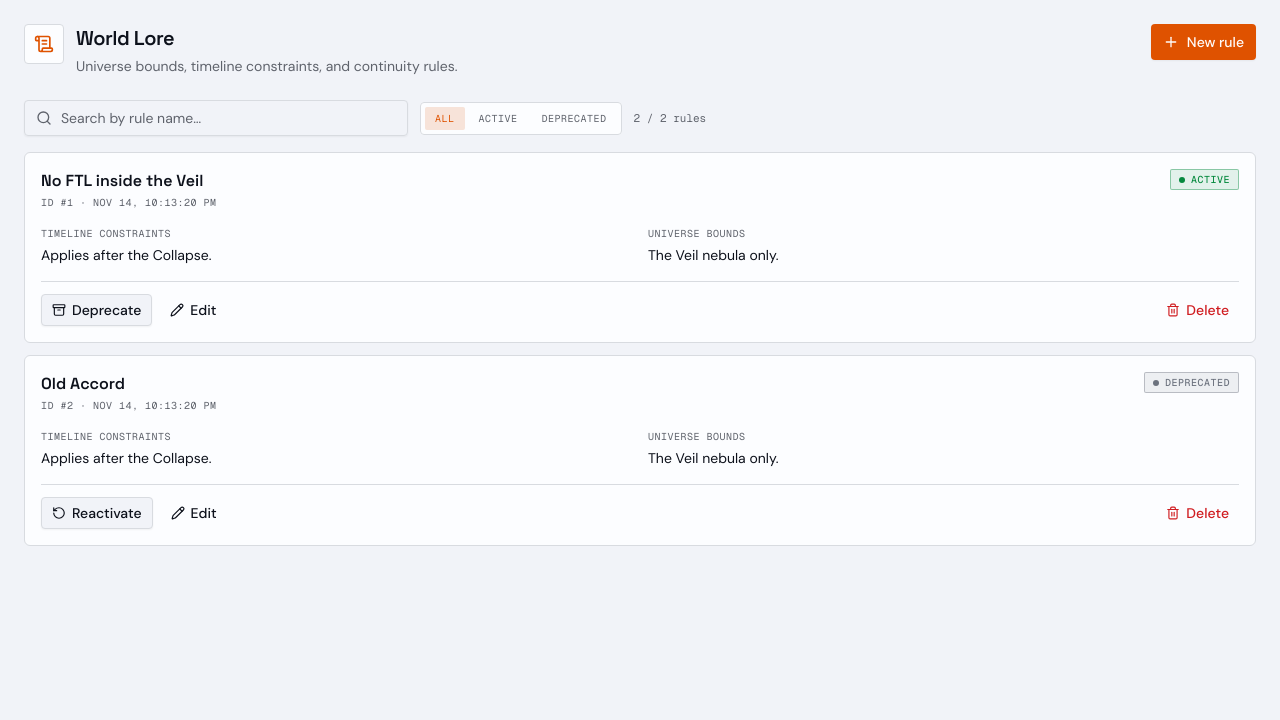
Scenario: LorePage › filters rules by status
Expected: the heading "No FTL inside the Veil" is shown, [41,169,216,193]
Click the button with test id "lore.filter.deprecated.tab": {"x": 574, "y": 118} [532,106,616,130]
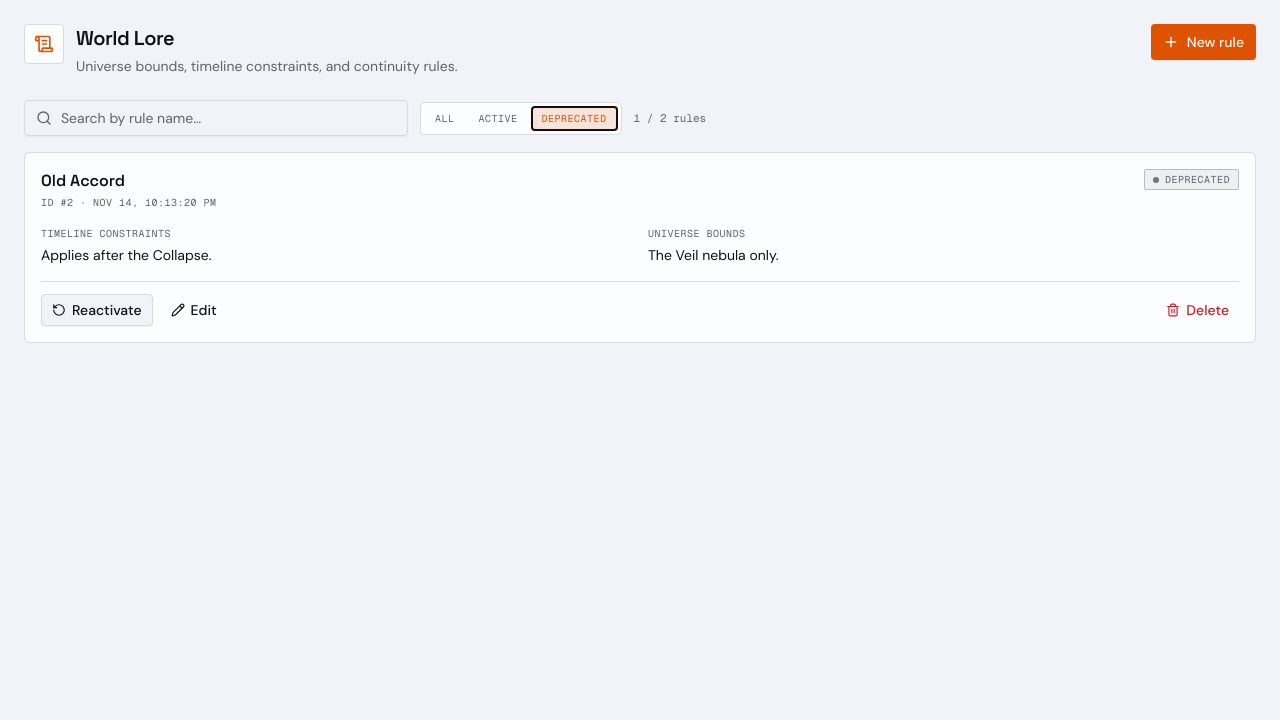
Expected: the heading "Old Accord" is shown, [41,170,125,191]
Now the heading "No FTL inside the Veil" is gone
